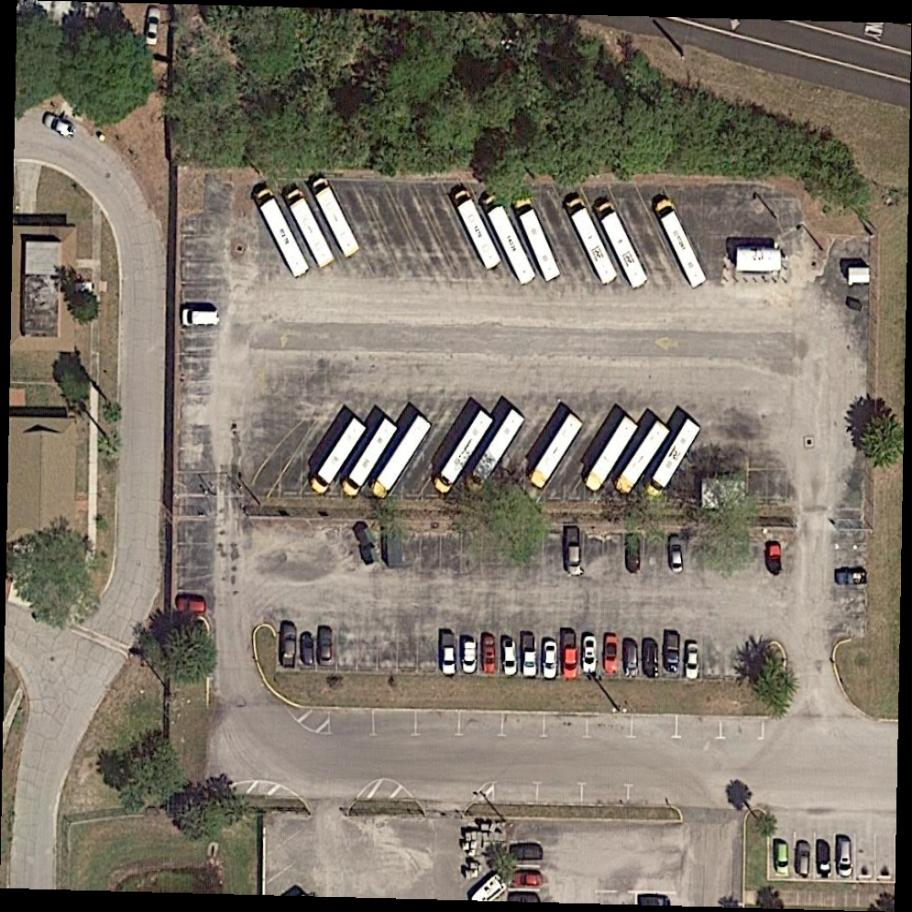large-vehicle: (250, 182, 313, 280), (461, 408, 529, 497), (478, 191, 539, 289), (431, 409, 498, 496), (651, 195, 711, 291), (368, 414, 434, 501), (593, 197, 653, 292), (563, 194, 621, 288), (338, 417, 402, 500), (307, 417, 370, 498), (643, 418, 703, 502), (307, 174, 364, 260), (526, 412, 587, 491), (581, 415, 640, 495), (613, 420, 673, 497), (282, 187, 337, 271), (450, 186, 504, 271), (512, 193, 562, 283)
small-vehicle: (41, 113, 78, 142), (280, 623, 297, 670), (663, 632, 682, 674), (182, 308, 221, 328), (566, 527, 581, 577), (562, 631, 577, 679), (668, 534, 685, 575), (145, 6, 162, 46), (643, 638, 659, 680), (502, 638, 519, 677), (522, 634, 537, 678), (542, 640, 558, 681), (625, 533, 641, 574), (582, 634, 598, 674), (684, 643, 701, 680), (442, 632, 456, 676), (482, 634, 497, 675), (838, 838, 853, 878), (605, 635, 620, 675), (511, 870, 544, 888), (623, 641, 639, 678), (318, 628, 333, 666), (817, 841, 832, 878), (797, 843, 812, 879), (511, 844, 544, 860), (766, 545, 782, 577), (463, 639, 477, 675), (177, 598, 207, 613), (776, 844, 789, 877), (837, 573, 867, 587), (302, 633, 314, 666)
